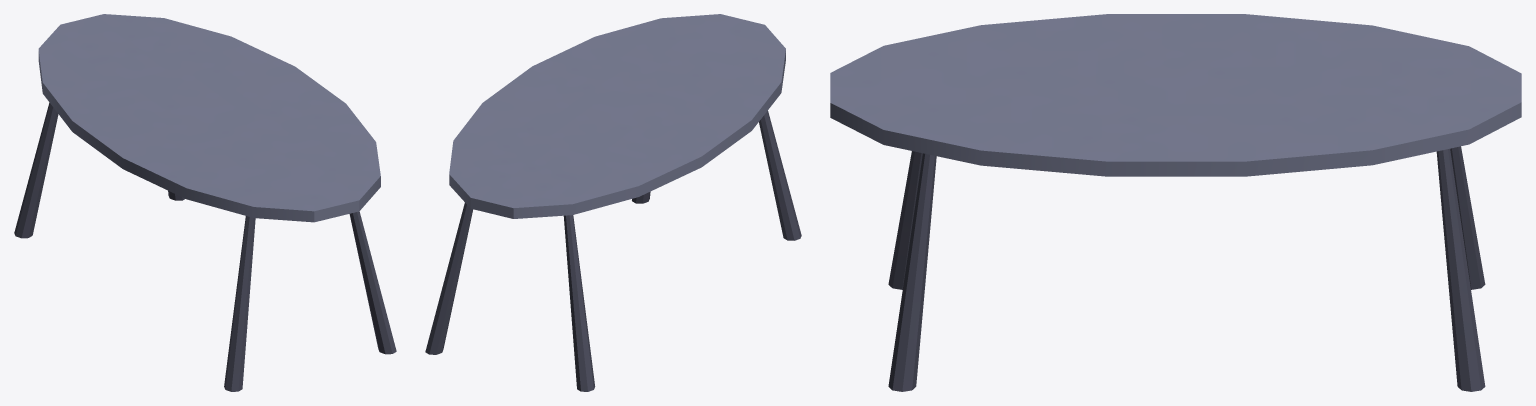
File: Table_03_03.fbx
3 views of the same model, side by side, from view 1: azimuth 30°, elevation 25°; view 2: azimuth 150°, elevation 25°; view 3: azimuth 270°, elevation 25° (orthographic). The views are drawn at different scales.
Visible parts, largest first — view 1: Table_03_03; view 2: Table_03_03; view 3: Table_03_03.
Part boxes in pixels (box(x1,y1,x2,y2)): Table_03_03: box(14, 14, 396, 391); Table_03_03: box(425, 14, 801, 391); Table_03_03: box(830, 14, 1521, 391).
Bounding box in the file's own units: 1.07 × 0.8341 × 2.11.
